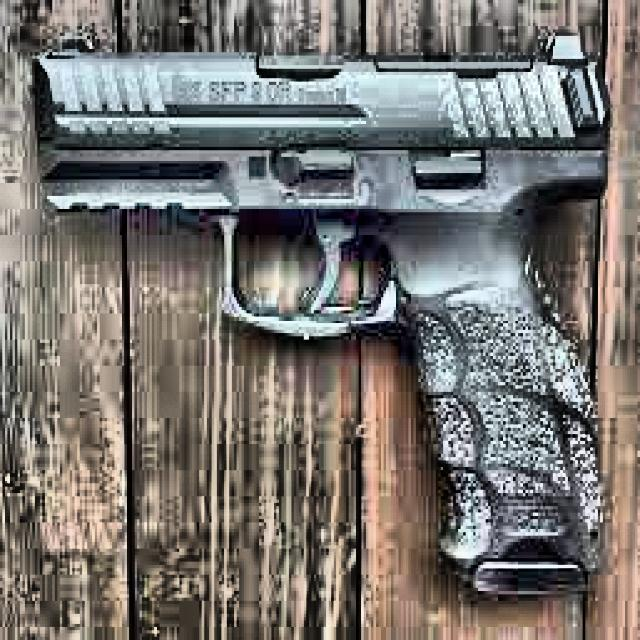HKVP9: (30, 28, 611, 607)
